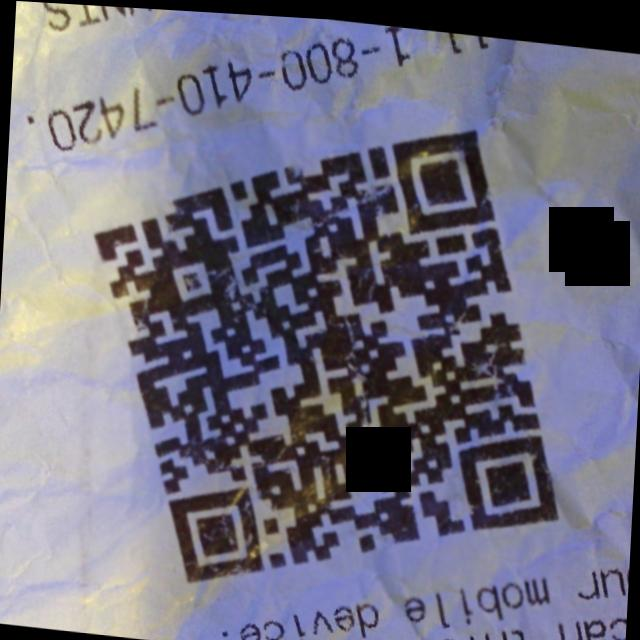QR_CODE: (66, 79, 595, 628)
